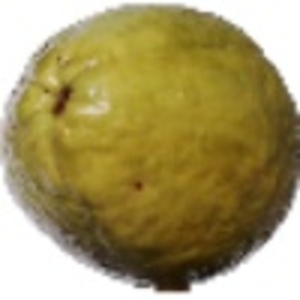goiaba: (5, 3, 297, 279)
